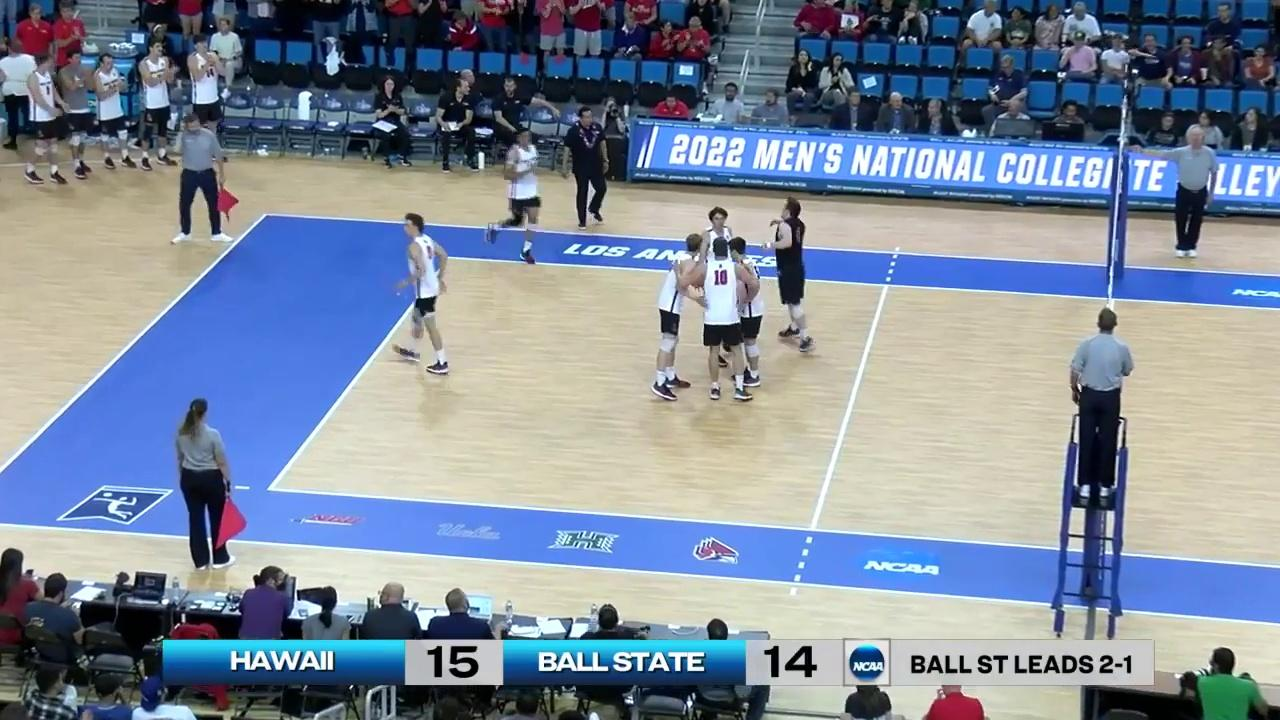player: (388, 212, 452, 376), (694, 239, 751, 404), (648, 235, 704, 400), (486, 131, 546, 265), (765, 199, 813, 351), (701, 206, 738, 365), (729, 237, 763, 387)
refree: (1071, 308, 1135, 491), (174, 399, 236, 569), (173, 112, 234, 244), (1167, 125, 1216, 258)
